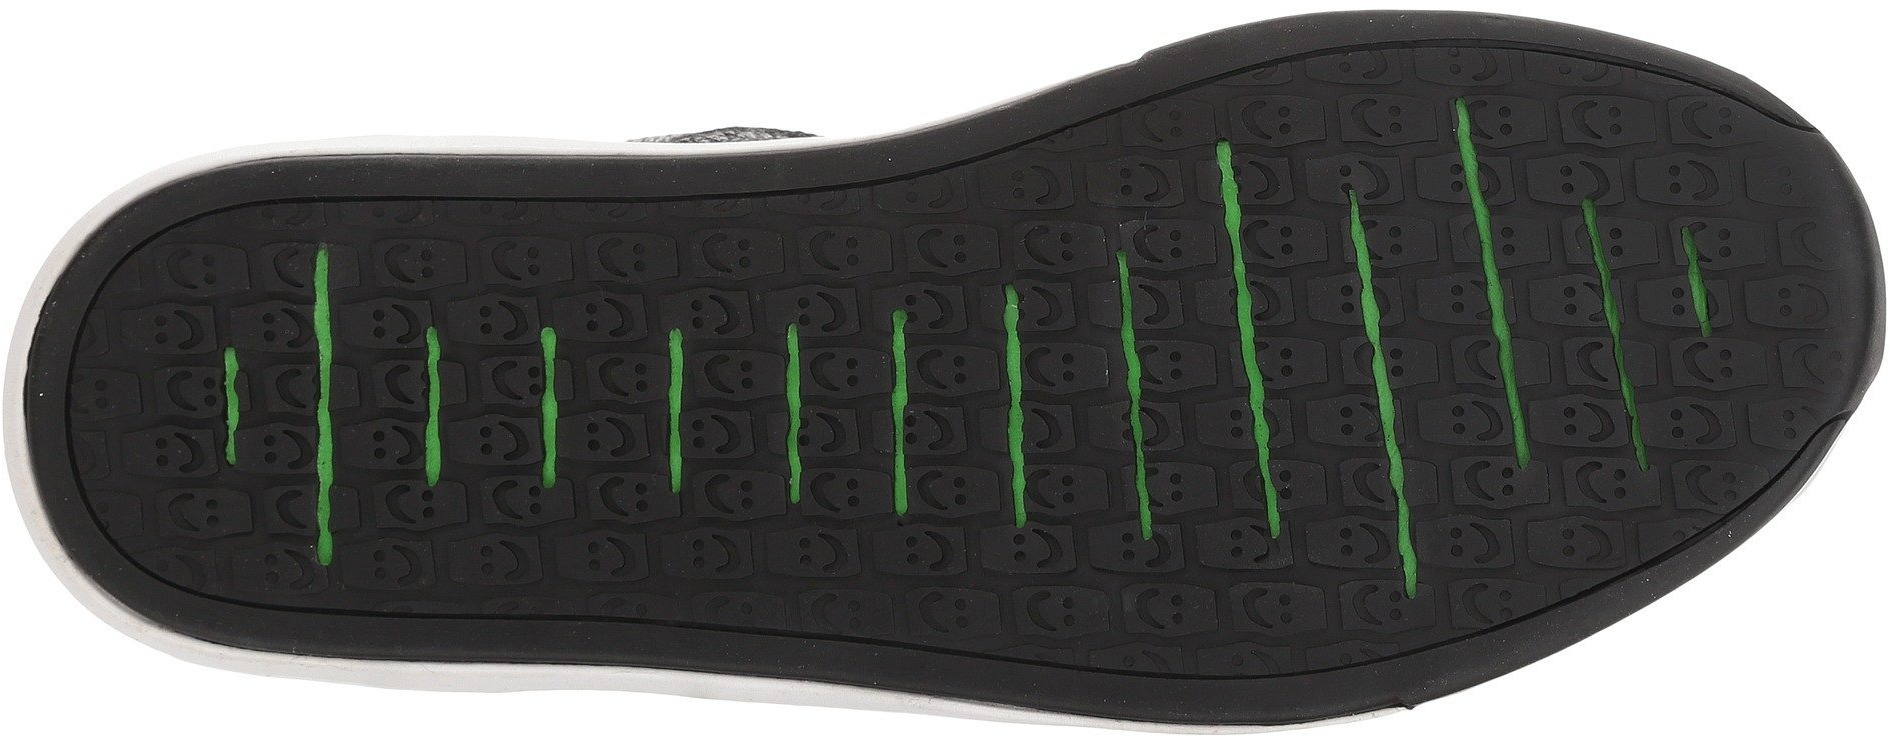quad: (1085, 70, 1703, 611), (613, 202, 1077, 633), (161, 220, 576, 596), (1636, 160, 1844, 364)
